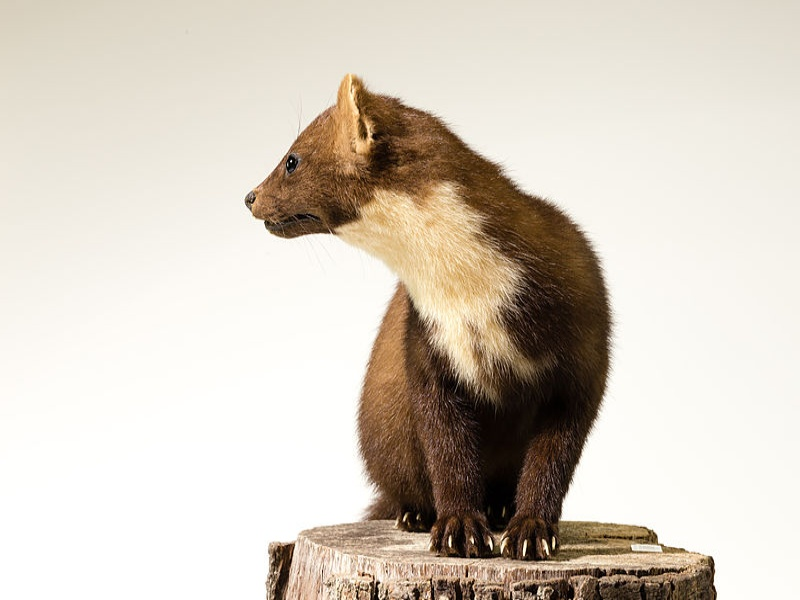minkish: (241, 74, 613, 568)
